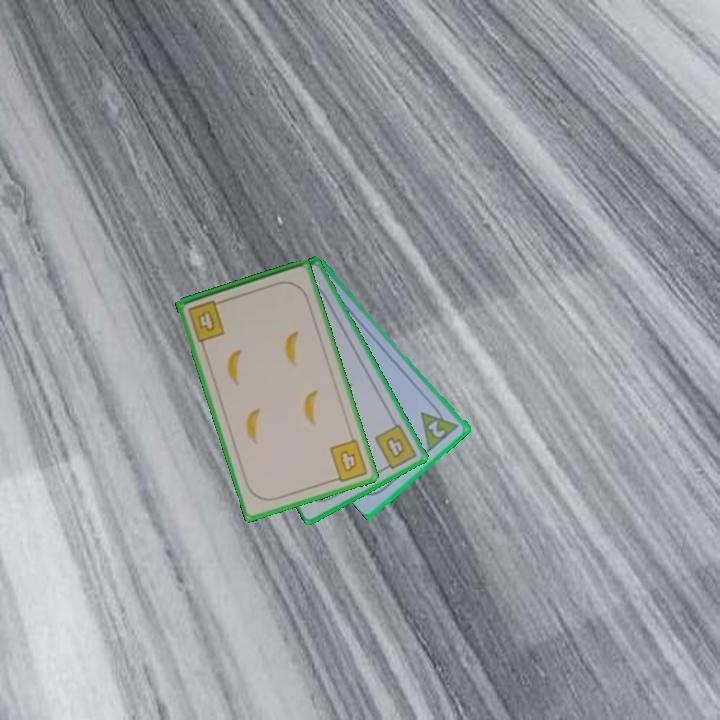2p: (417, 400, 462, 453)
4b: (371, 421, 420, 474), (326, 436, 371, 485), (184, 296, 228, 345)
